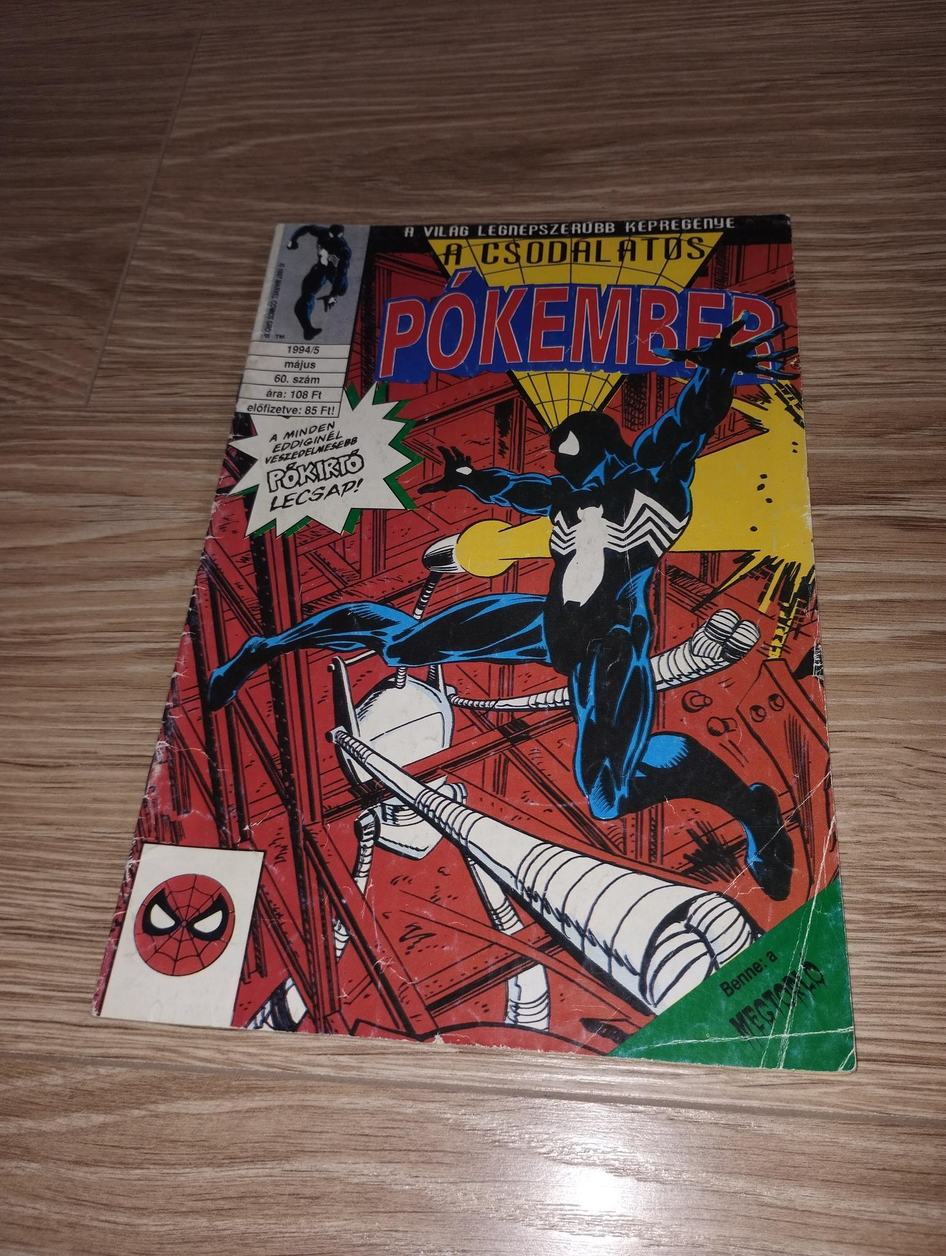comic: (94, 176, 908, 1071)
